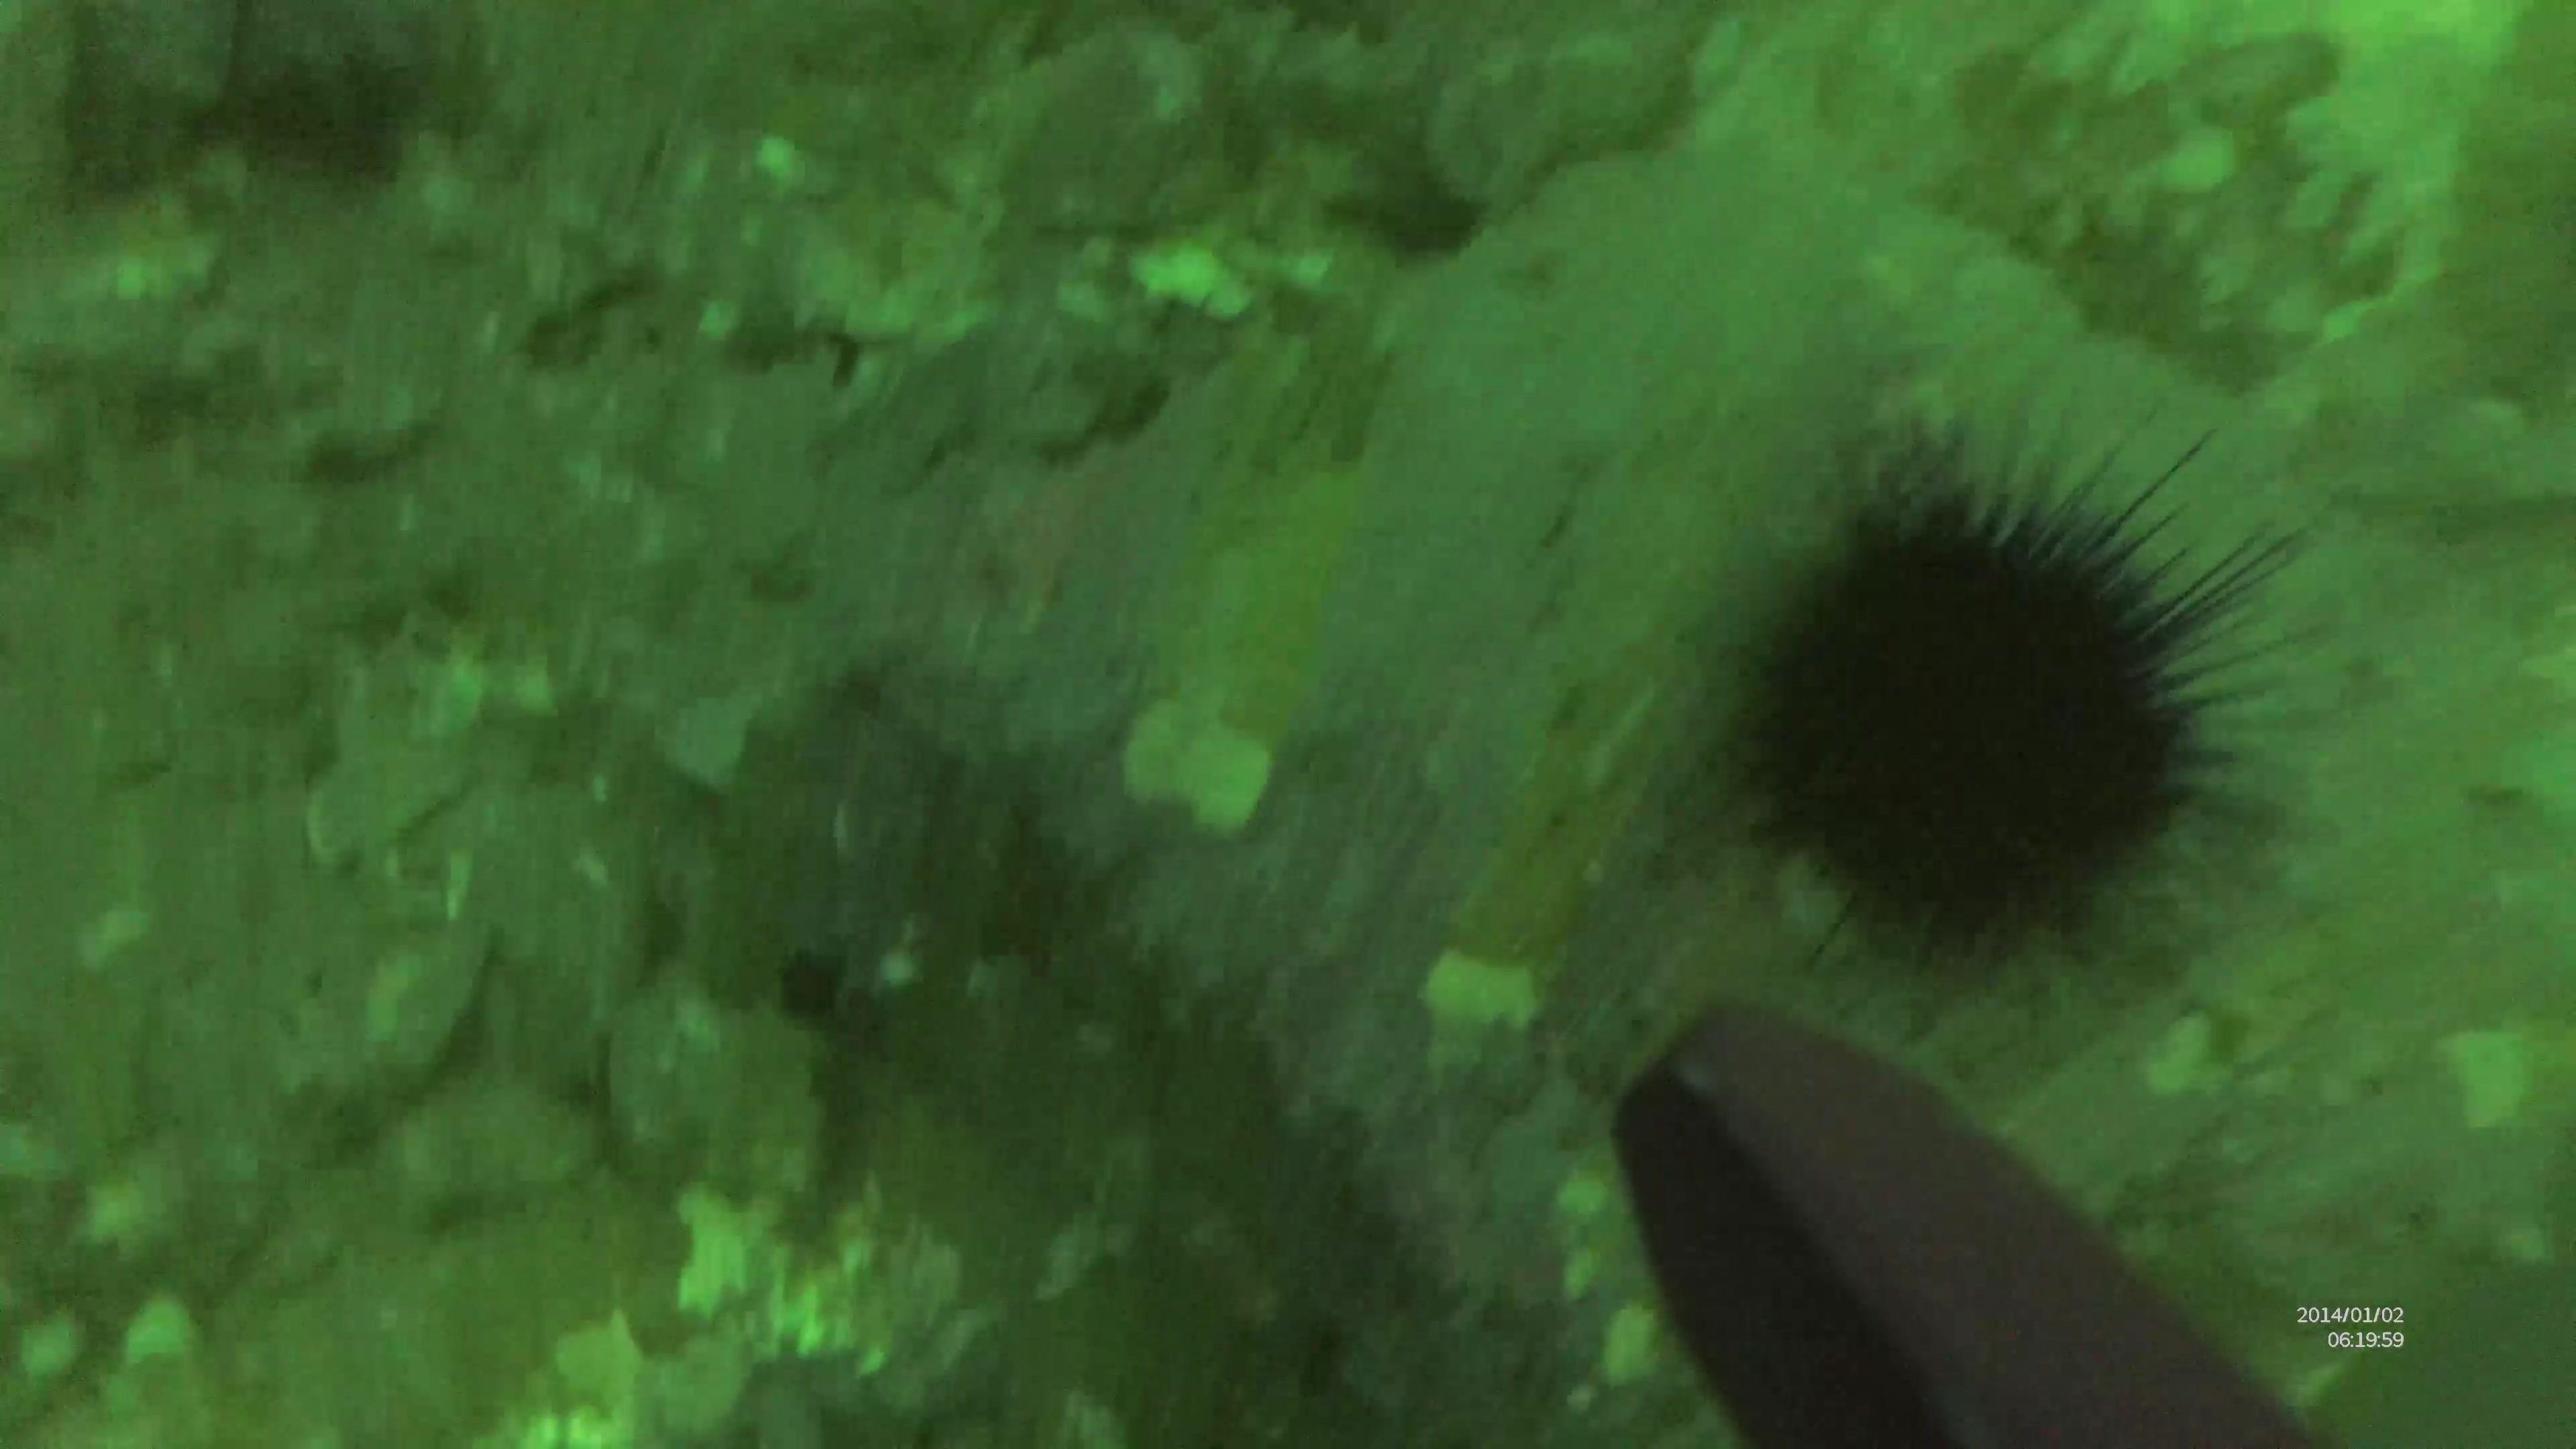echinus: (1757, 407, 2316, 982)
